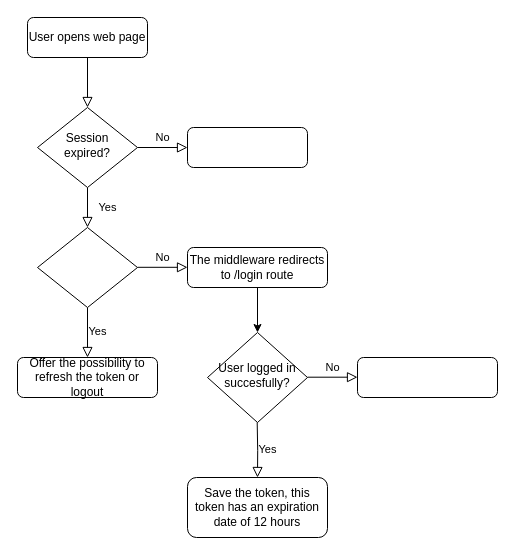
Some shapes in this 515 by 555 pixel diagram are drawn without their labels. The centre of each missing label's shape, as x and y in pixels:
"A message appears letting the user know something went wrong" belongs at point 427,377.
"Go to normal navegation" belongs at point 247,147.
"Is token present?" belongs at point 87,267.
